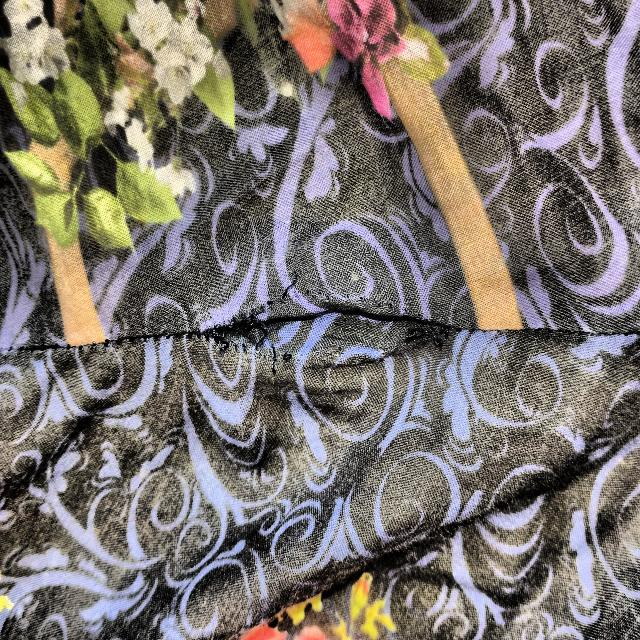seam: (190, 272, 471, 404)
